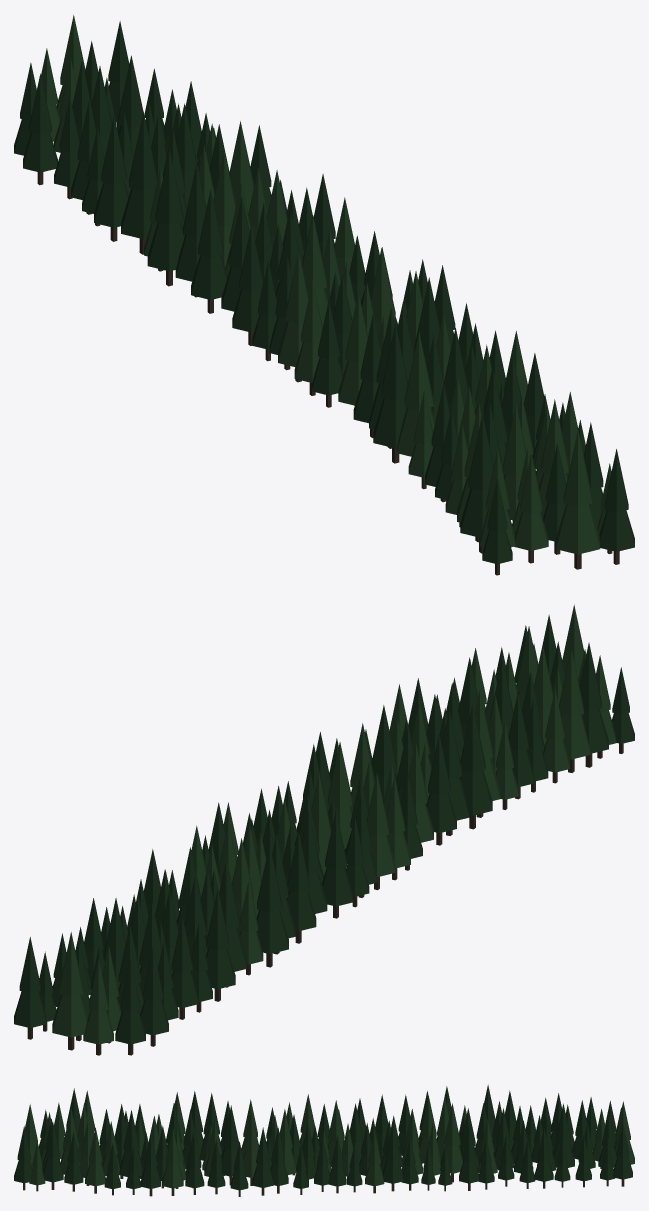
The model's file is forest_edge_09.glb.
The picture shows the model from 3 angles, top to bottom: view 1: azimuth 30°, elevation 25°; view 2: azimuth 150°, elevation 25°; view 3: azimuth 270°, elevation 25°; orthographic projection. The views are drawn at different scales.
Visible parts, largest first — view 1: chunk_0_0; view 2: chunk_0_0; view 3: chunk_0_0.
Part boxes in pixels (box(x1,y1,x2,y2)): chunk_0_0: box(14, 15, 634, 575); chunk_0_0: box(14, 604, 634, 1055); chunk_0_0: box(14, 1084, 634, 1196).
Size of the model in its own units: 34.82 by 30.85 by 192.
